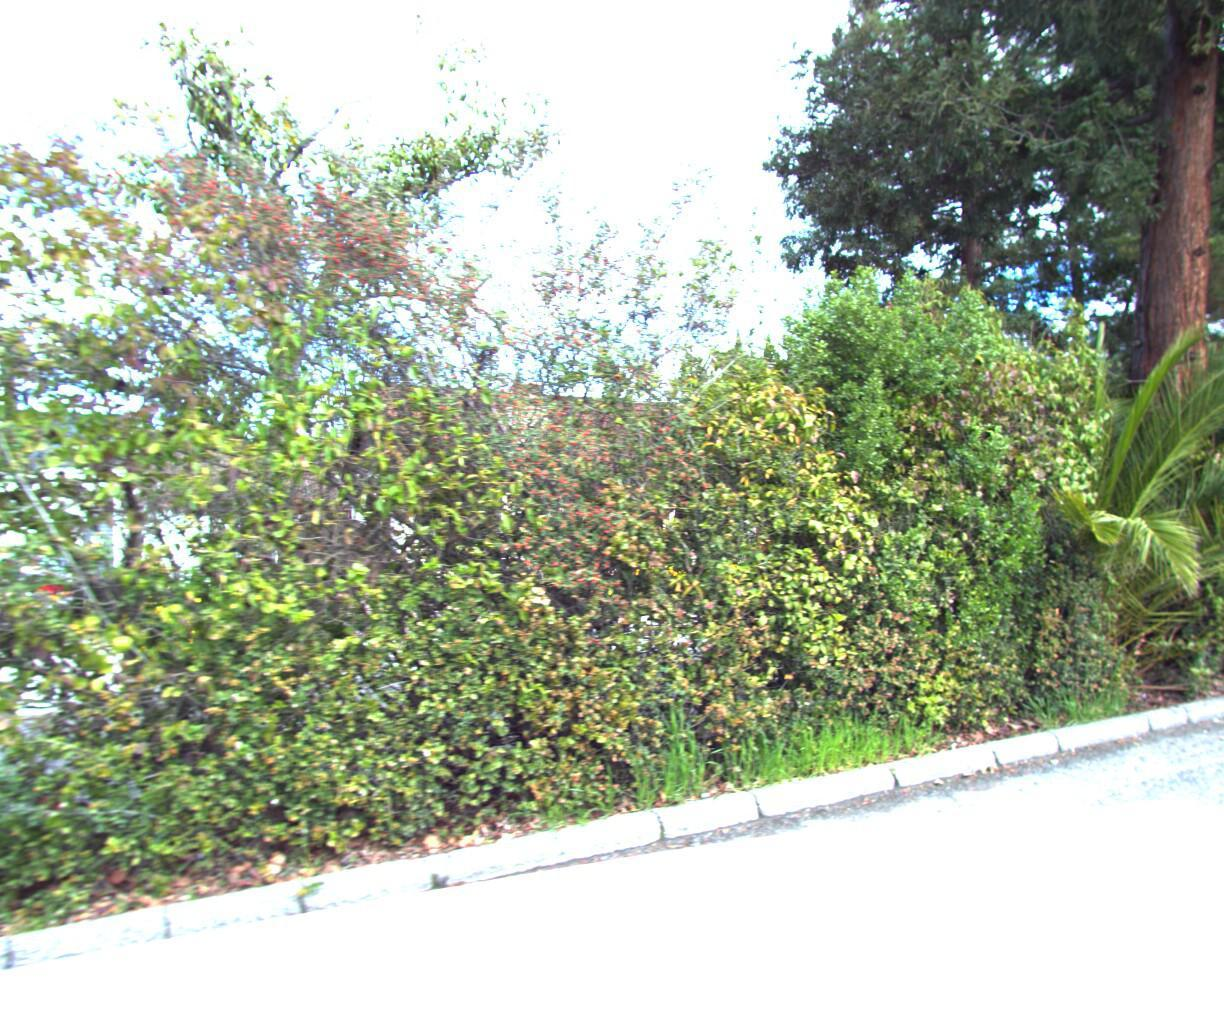car: (0, 540, 97, 656)
